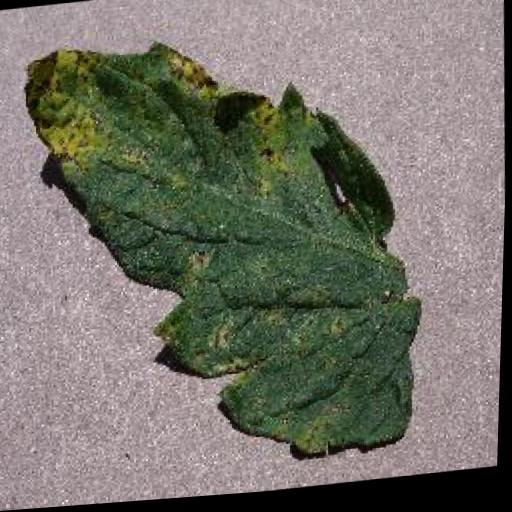Septoria: (0, 9, 438, 493)
